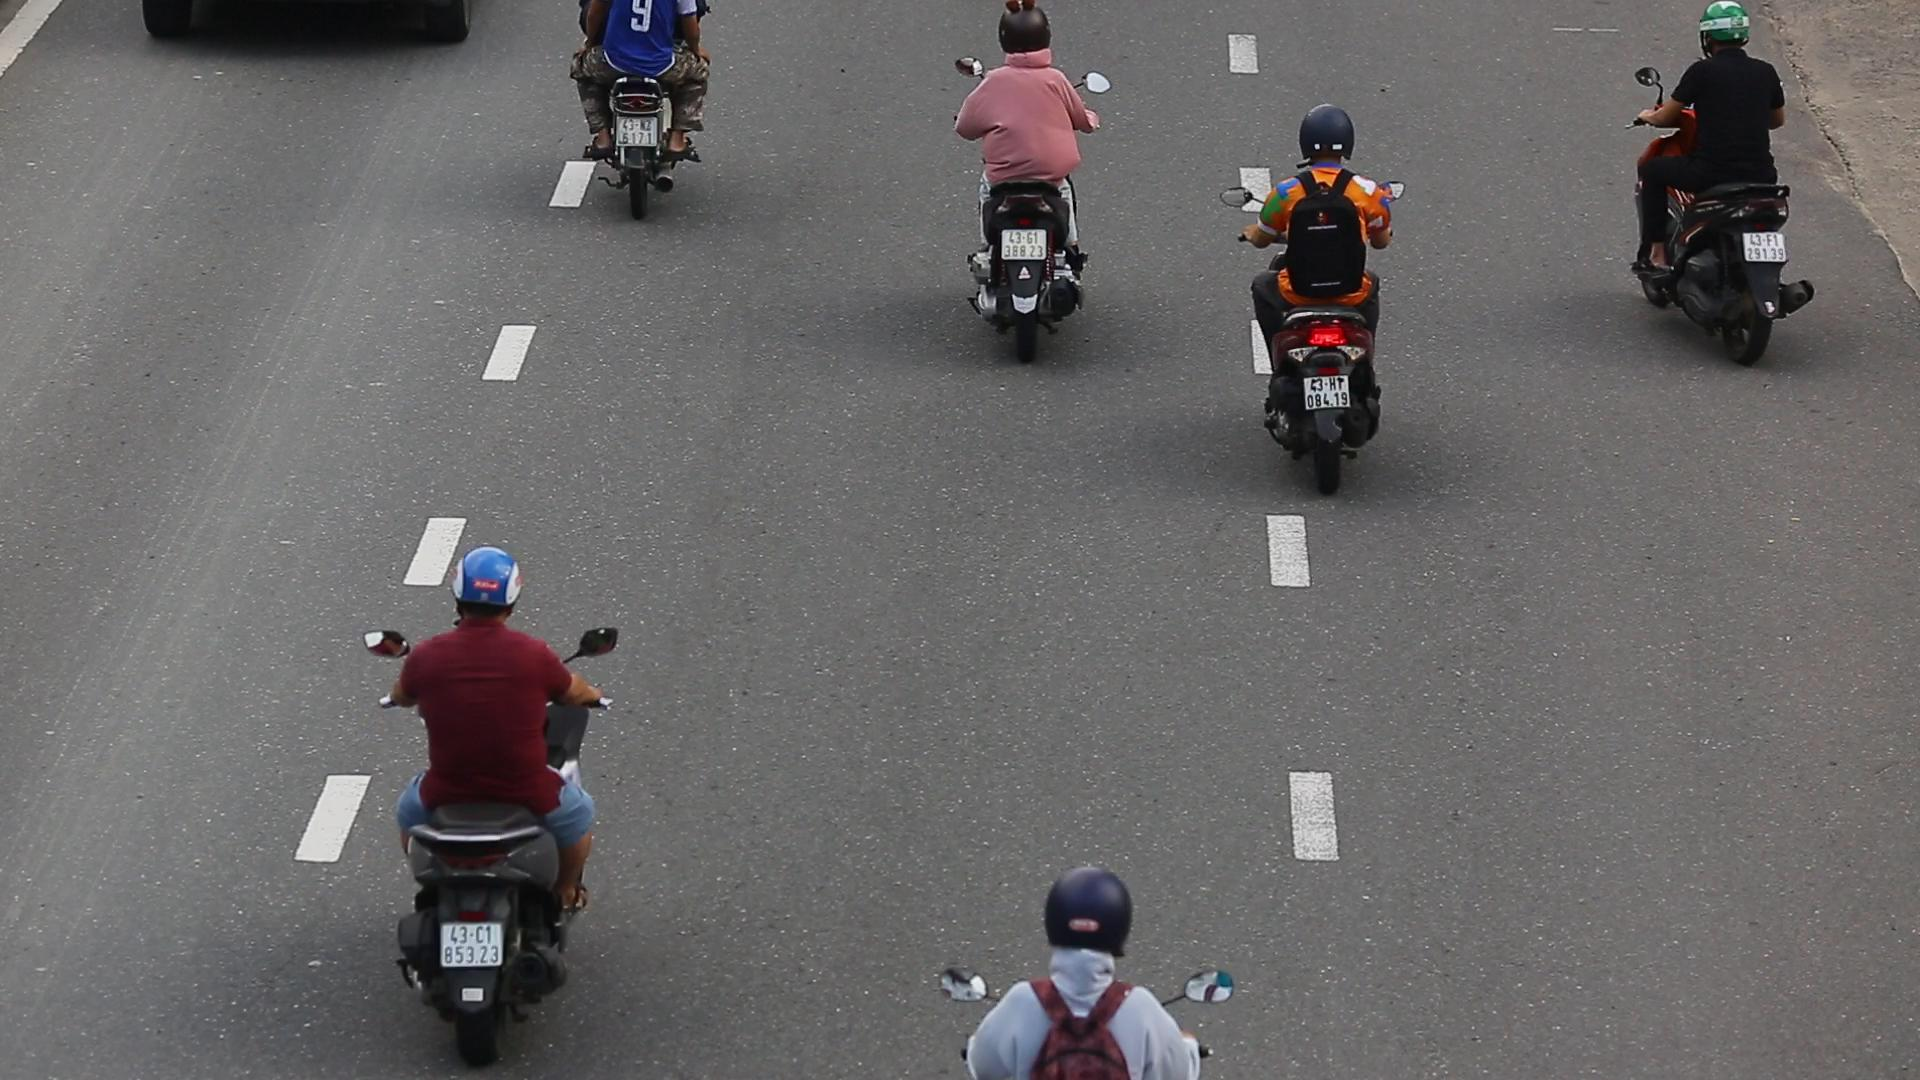motobike: (344, 514, 621, 1072), (1215, 82, 1425, 500), (1627, 0, 1824, 377), (965, 0, 1121, 367)
